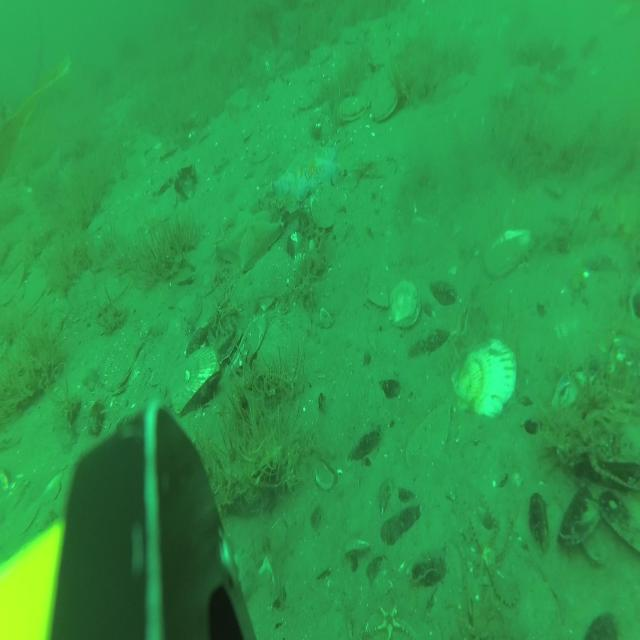scallop: (449, 338, 518, 416), (168, 349, 220, 410), (484, 224, 530, 276), (387, 278, 420, 326), (104, 341, 134, 392), (335, 94, 369, 122), (369, 88, 397, 121)
starfish: (216, 207, 284, 267), (271, 136, 335, 197)
